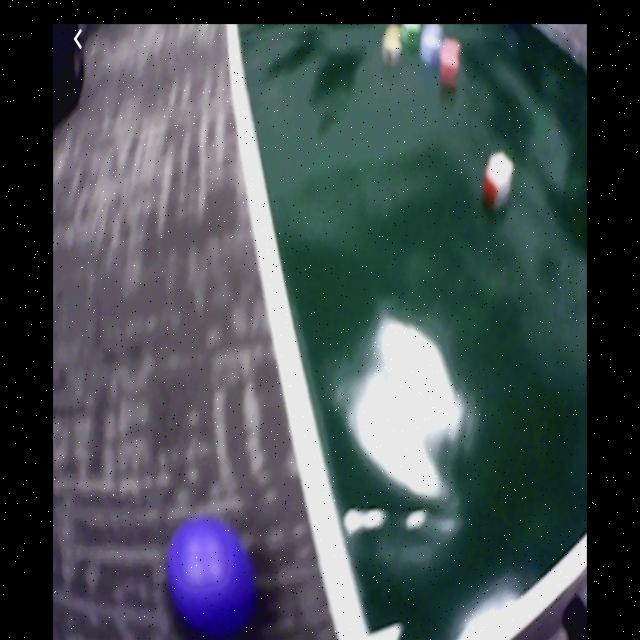ball: (172, 518, 254, 633)
